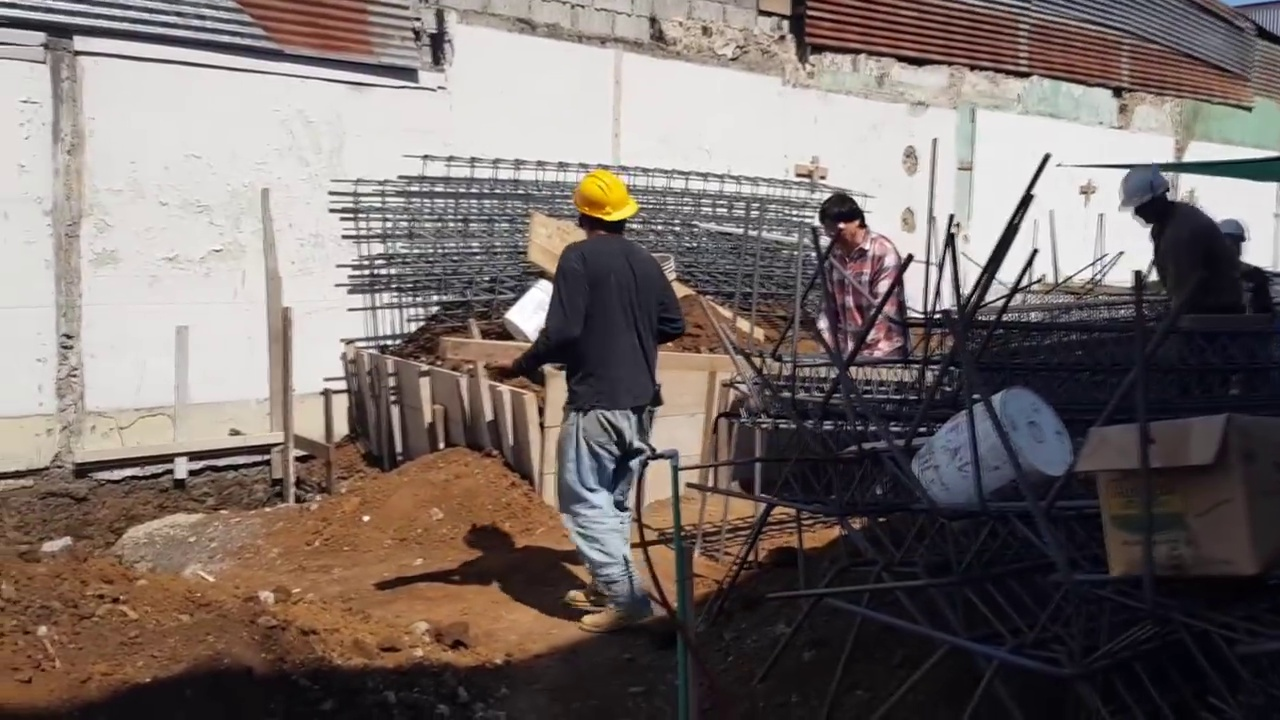helmet: (571, 170, 641, 223), (1119, 164, 1169, 209), (1215, 218, 1247, 243)
helmet-off: (818, 192, 868, 253)
helmet-on: (568, 171, 640, 245), (1118, 164, 1182, 229), (1212, 216, 1246, 264)
person: (486, 165, 687, 637), (1124, 172, 1249, 329), (804, 189, 909, 360), (1211, 217, 1271, 313)
